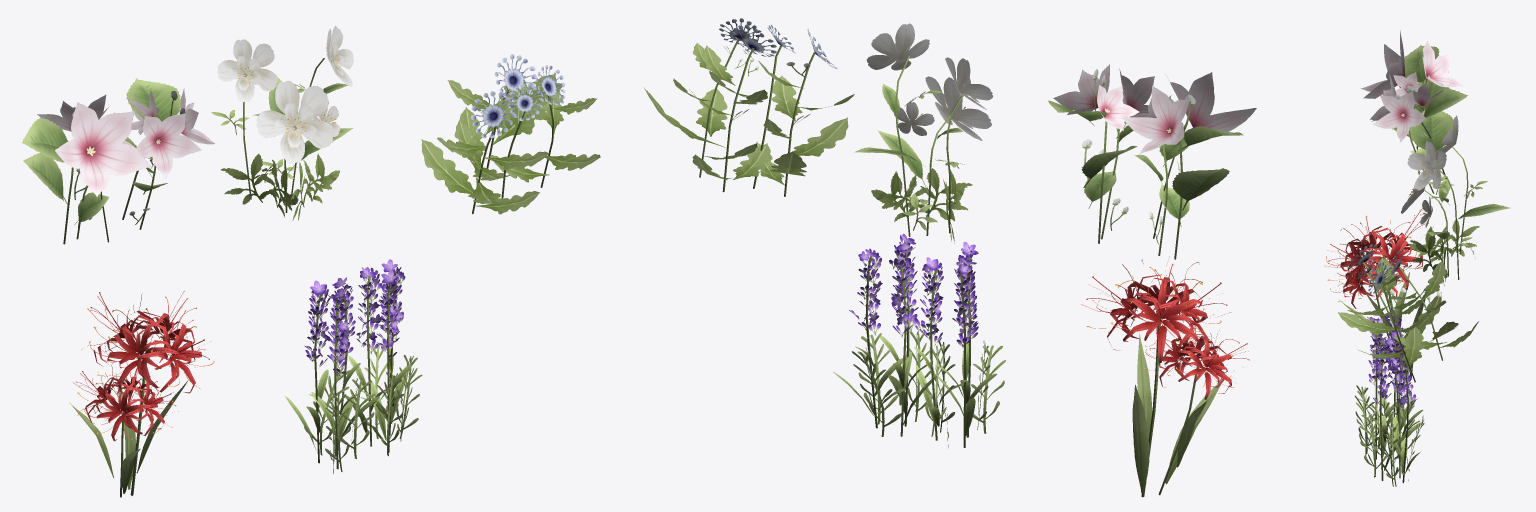
Rendered from Flower set1.fbx.
3 views of the same model, side by side, from view 1: azimuth 30°, elevation 25°; view 2: azimuth 150°, elevation 25°; view 3: azimuth 270°, elevation 25° (orthographic). The views are drawn at different scales.
Visible parts, largest first — view 1: polySurface120, pPlane250, polySurface167, polySurface52, pPlane188; view 2: polySurface120, pPlane250, pPlane188, polySurface167, polySurface52; view 3: polySurface120, pPlane250, polySurface52, polySurface167, pPlane188.
Boxes of the visible parts, x1=… form: polySurface120: x1=21, y1=78, x2=214, y2=244; pPlane250: x1=285, y1=259, x2=422, y2=473; polySurface167: x1=211, y1=26, x2=353, y2=220; polySurface52: x1=421, y1=54, x2=600, y2=214; pPlane188: x1=69, y1=291, x2=214, y2=497; polySurface120: x1=1048, y1=64, x2=1256, y2=259; pPlane250: x1=833, y1=233, x2=1005, y2=447; pPlane188: x1=1081, y1=256, x2=1249, y2=497; polySurface167: x1=854, y1=23, x2=993, y2=243; polySurface52: x1=644, y1=18, x2=854, y2=196; polySurface120: x1=1360, y1=30, x2=1467, y2=193; pPlane250: x1=1355, y1=311, x2=1424, y2=486; polySurface52: x1=1338, y1=244, x2=1478, y2=382; polySurface167: x1=1401, y1=115, x2=1510, y2=286; pPlane188: x1=1324, y1=210, x2=1433, y2=383.
Size of the model in its own units: 7.08 by 5.09 by 2.9.
